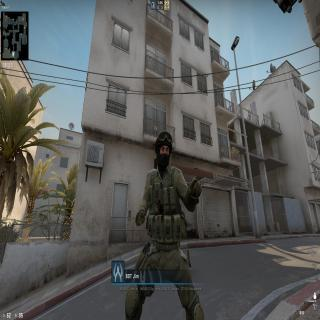CT-Head: (153, 127, 174, 174)
